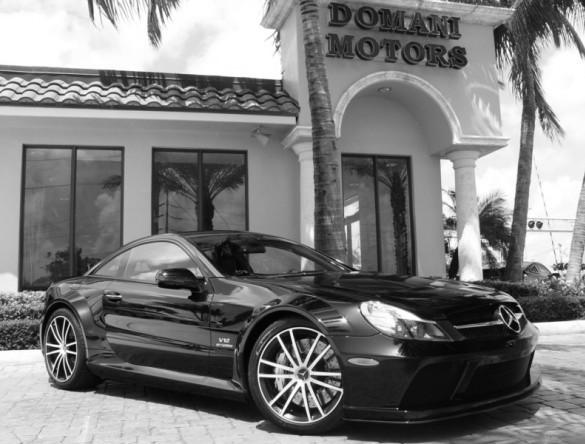car: (40, 232, 544, 444)
